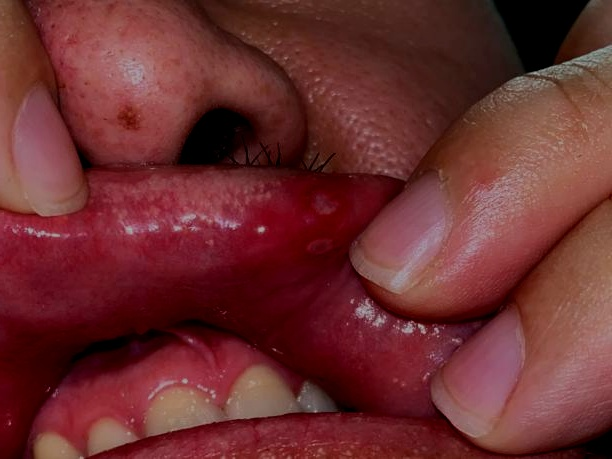Ulcer: (299, 188, 349, 253)
